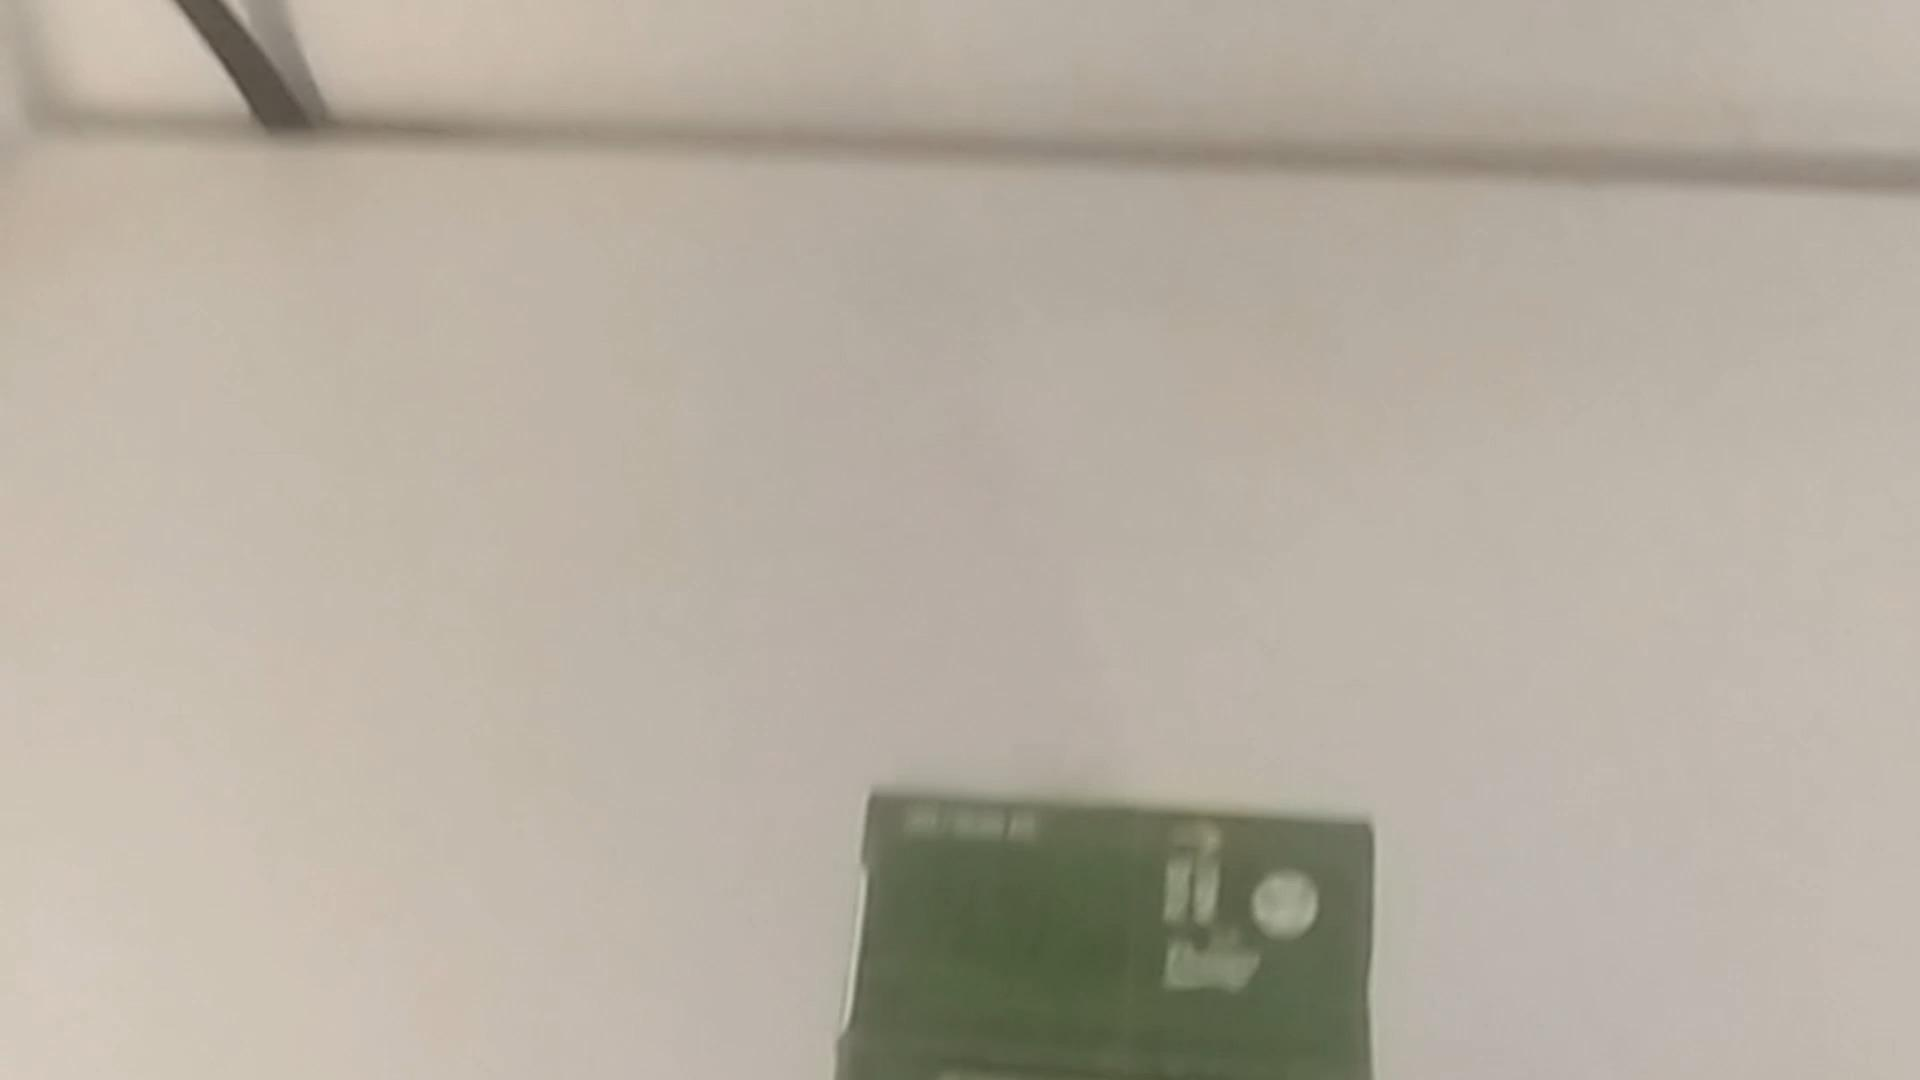coco: (823, 770, 1378, 1080)
